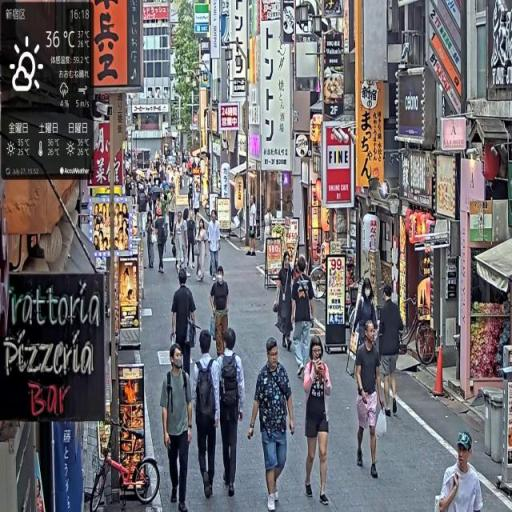person: (248, 336, 297, 512), (159, 339, 194, 512), (214, 323, 247, 502), (192, 328, 222, 505), (303, 338, 333, 509), (355, 319, 386, 481), (376, 285, 405, 423), (436, 430, 484, 512), (171, 266, 199, 387), (292, 257, 317, 380), (274, 250, 297, 353), (209, 263, 232, 358), (208, 209, 223, 283), (155, 207, 170, 276), (195, 217, 210, 285)
